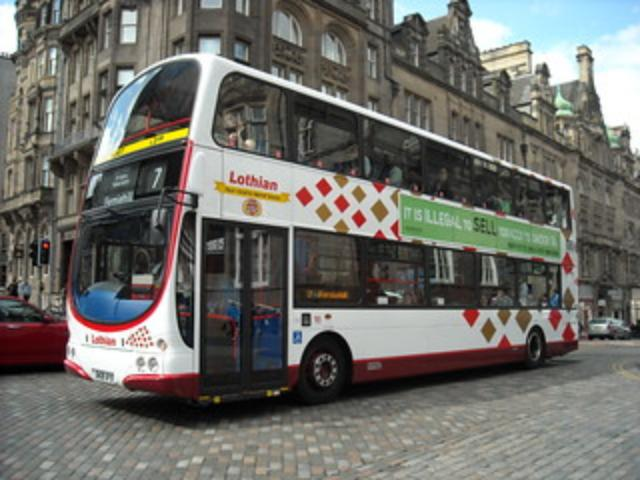bus: (60, 52, 578, 406)
